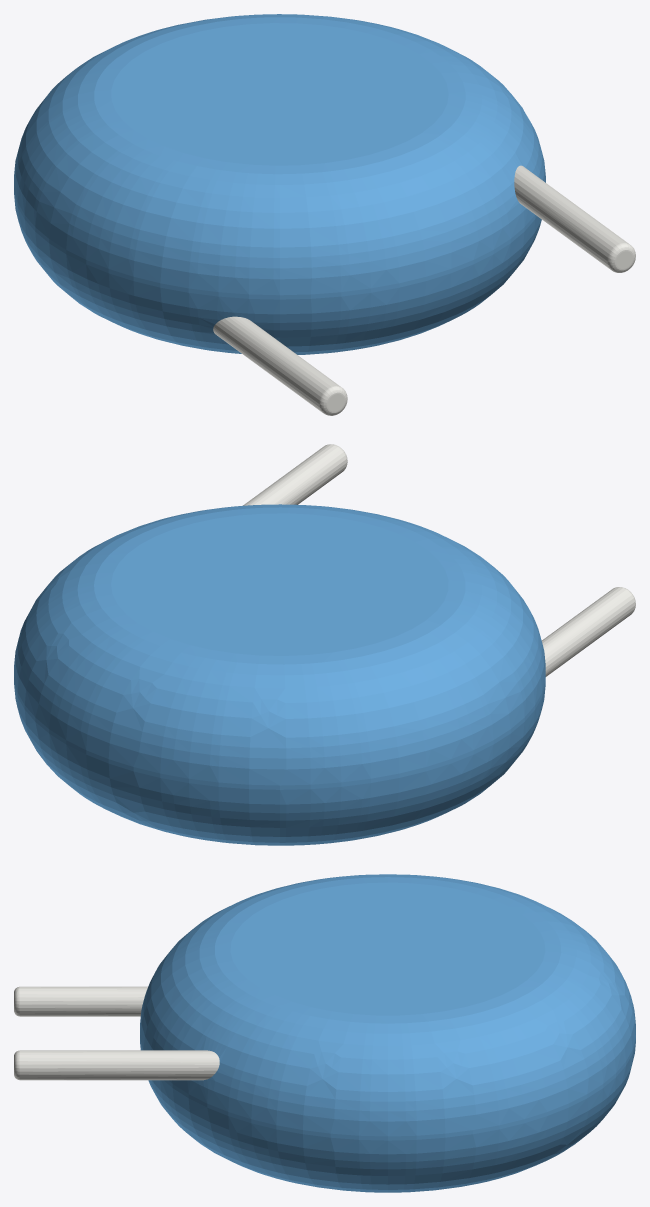
The model's file is RV_Disc_D12mm_W4.5mm_P7.5mm.glb.
3 views of the same model, one above another, from view 1: azimuth 30°, elevation 25°; view 2: azimuth 150°, elevation 25°; view 3: azimuth 270°, elevation 25° (orthographic). The views are drawn at different scales.
Parts seen in each view (by area): view 1: Shape_IndexedFaceSet.001, Shape_IndexedFaceSet.003, Shape_IndexedFaceSet.002, Shape_IndexedFaceSet.006, Shape_IndexedFaceSet.004, Shape_IndexedFaceSet; view 2: Shape_IndexedFaceSet.001, Shape_IndexedFaceSet.003, Shape_IndexedFaceSet.002, Shape_IndexedFaceSet.006, Shape_IndexedFaceSet.004, Shape_IndexedFaceSet; view 3: Shape_IndexedFaceSet.001, Shape_IndexedFaceSet.003, Shape_IndexedFaceSet.002, Shape_IndexedFaceSet.004, Shape_IndexedFaceSet.006, Shape_IndexedFaceSet.
Boxes of the visible parts, x1,y1,x2,y2 form: Shape_IndexedFaceSet.001: (14, 14, 545, 295); Shape_IndexedFaceSet.003: (111, 23, 448, 165); Shape_IndexedFaceSet.002: (14, 194, 541, 354); Shape_IndexedFaceSet.006: (213, 316, 340, 411); Shape_IndexedFaceSet.004: (514, 165, 628, 269); Shape_IndexedFaceSet: (14, 190, 536, 299); Shape_IndexedFaceSet.001: (14, 504, 545, 785); Shape_IndexedFaceSet.003: (111, 513, 448, 655); Shape_IndexedFaceSet.002: (14, 684, 545, 845); Shape_IndexedFaceSet.006: (542, 587, 634, 676); Shape_IndexedFaceSet.004: (243, 444, 346, 505); Shape_IndexedFaceSet: (14, 680, 545, 789); Shape_IndexedFaceSet.001: (140, 874, 635, 1136); Shape_IndexedFaceSet.003: (230, 882, 545, 1015); Shape_IndexedFaceSet.002: (140, 1042, 635, 1192); Shape_IndexedFaceSet.004: (20, 1050, 219, 1080); Shape_IndexedFaceSet.006: (20, 986, 147, 1016); Shape_IndexedFaceSet: (140, 1038, 635, 1140).
Size of the model in its own units: 4.72 by 1.77 by 5.91.
